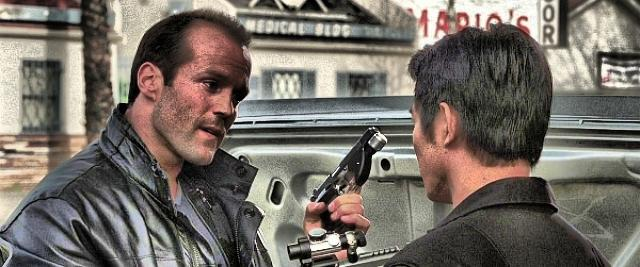pistol: (284, 120, 390, 266)
